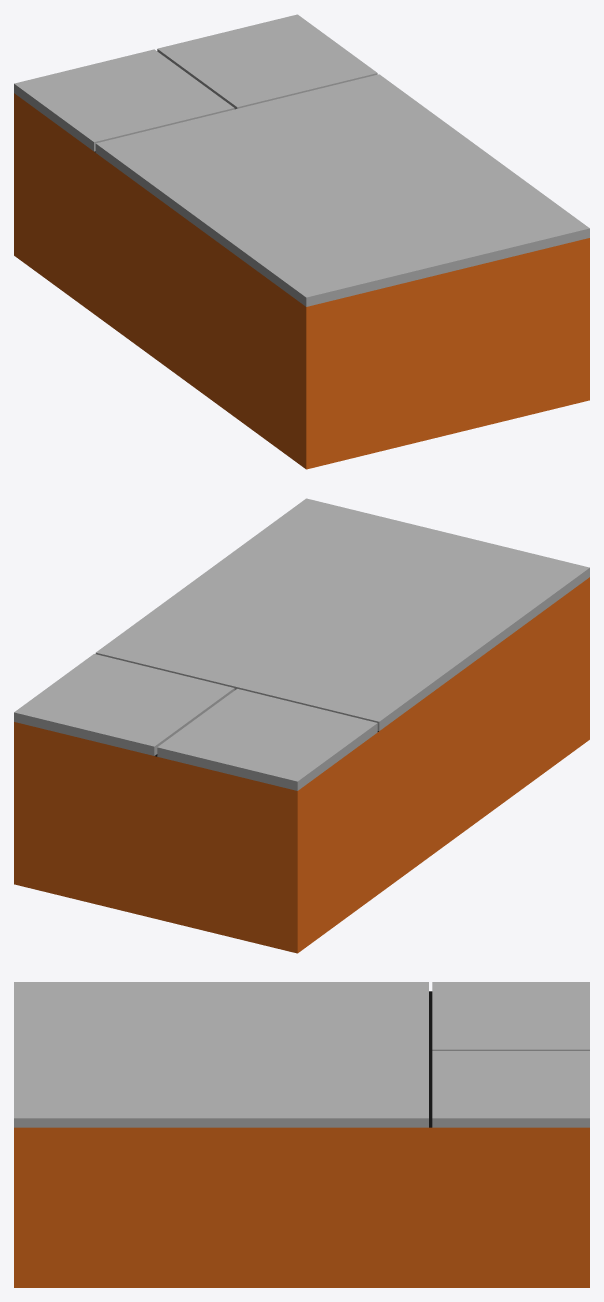
The model's file is Itr_Obj_Mouse_05.FBX.
The picture shows the model from 3 angles, top to bottom: view 1: azimuth 30°, elevation 25°; view 2: azimuth 150°, elevation 25°; view 3: azimuth 270°, elevation 25°; orthographic projection.
Visible parts, largest first — view 1: Itr_Obj_Mouse_05; view 2: Itr_Obj_Mouse_05; view 3: Itr_Obj_Mouse_05.
Part boxes in pixels (x1,y1,x2,y2): Itr_Obj_Mouse_05: (14,14,589,469); Itr_Obj_Mouse_05: (14,498,589,953); Itr_Obj_Mouse_05: (14,982,589,1287).
Size of the model in its own units: 2.75 by 1.6 by 4.92.
